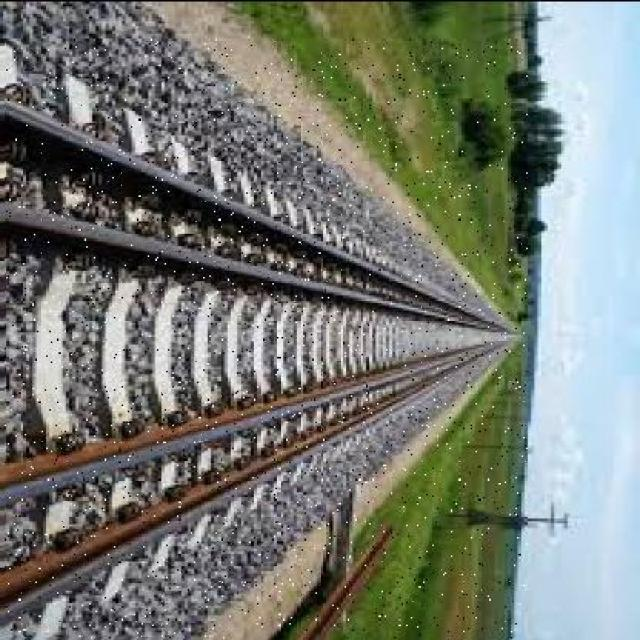rail: (6, 38, 528, 638)
